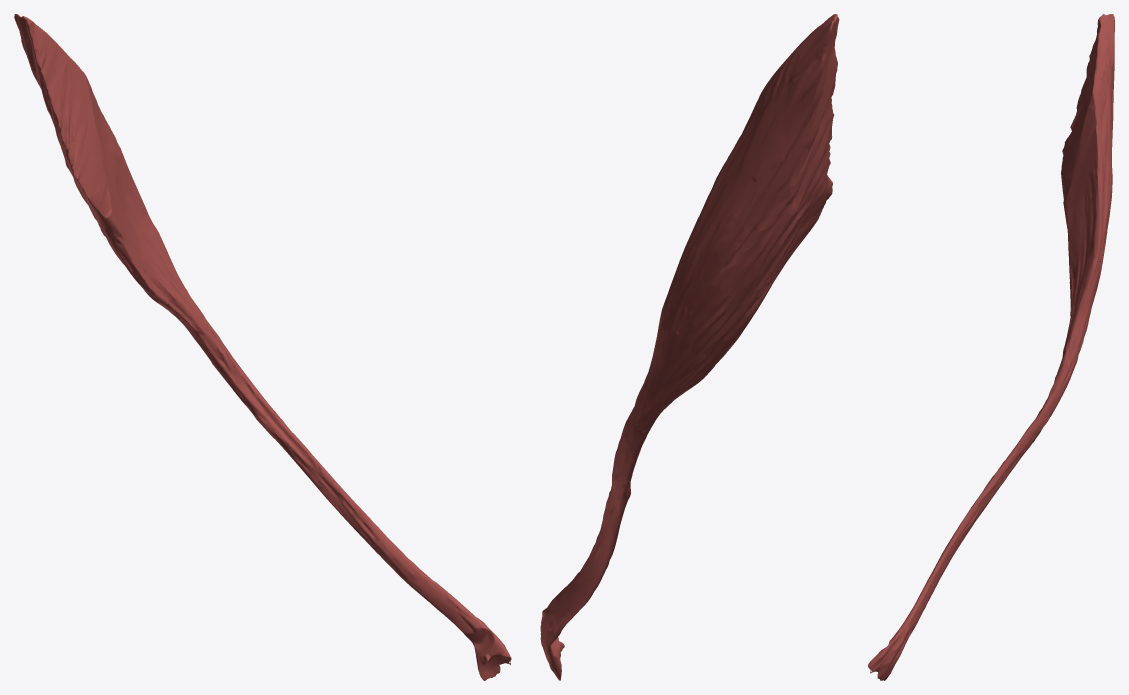
Rendered from FMA38520.glb.
3 renders of one model, left to right at view 1: azimuth 30°, elevation 25°; view 2: azimuth 150°, elevation 25°; view 3: azimuth 270°, elevation 25°, orthographic. The views are drawn at different scales.
Visible parts, largest first — view 1: FMA38520; view 2: FMA38520; view 3: FMA38520.
Boxes of the visible parts, left/top/right/bottom form: FMA38520: left=14, top=14, right=511, bottom=680; FMA38520: left=540, top=14, right=839, bottom=680; FMA38520: left=868, top=14, right=1114, bottom=680.
Size of the model in its own units: 0.0765 by 0.1355 by 0.0567.
